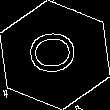O_E: (25, 30, 85, 80)
